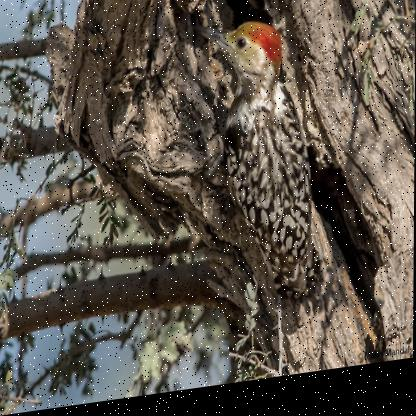Burung: (191, 15, 319, 313)
